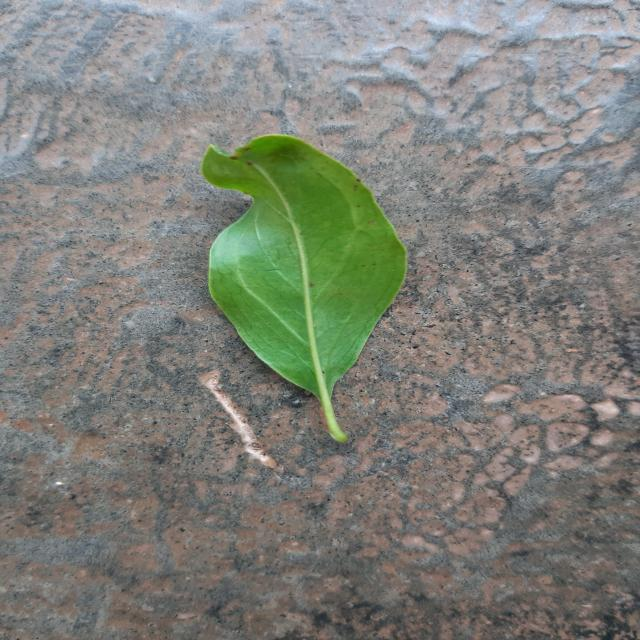pomgranate: (202, 135, 407, 441)
